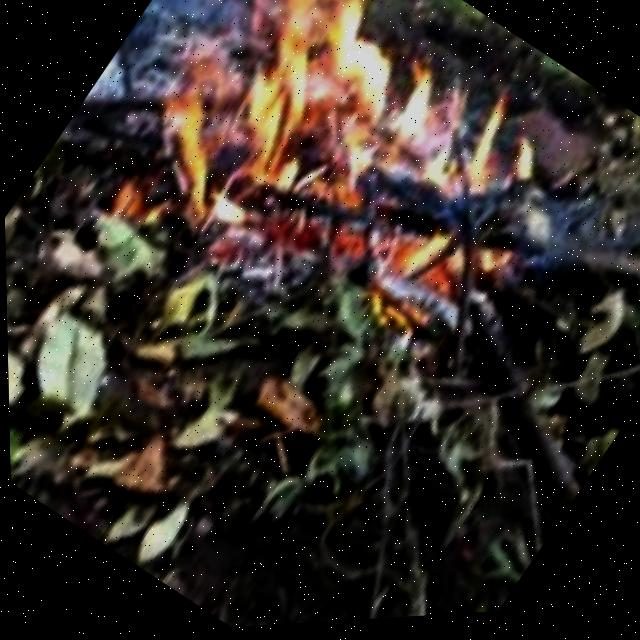Fire: (95, 0, 618, 412)
